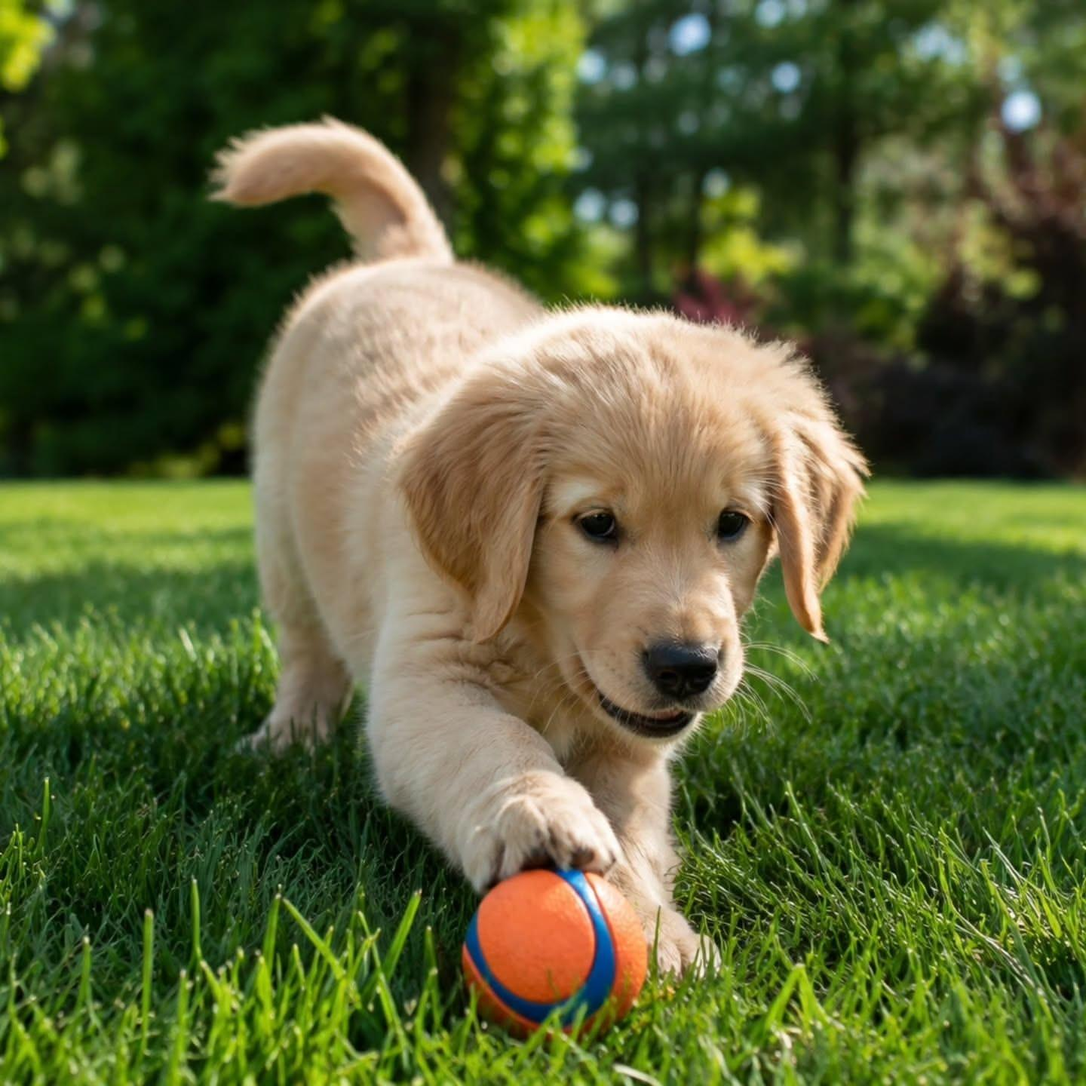non-dog: (459, 867, 652, 1041)
puppy-dog: (207, 110, 873, 983)
